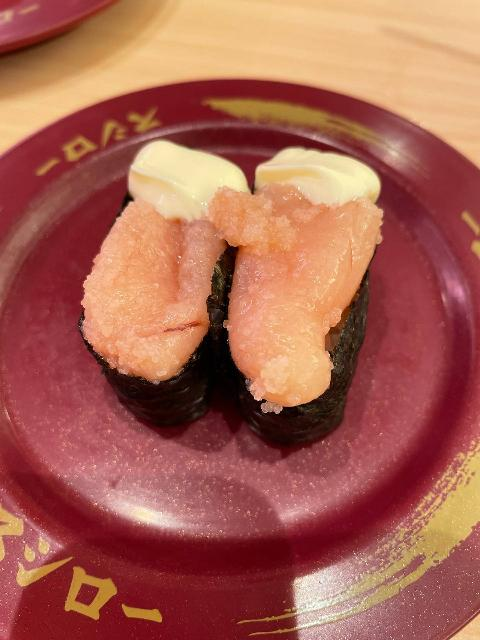janred: (0, 72, 480, 616), (0, 0, 150, 52)
